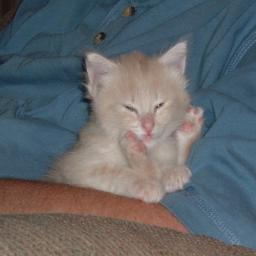catnose: (139, 118, 157, 135)
